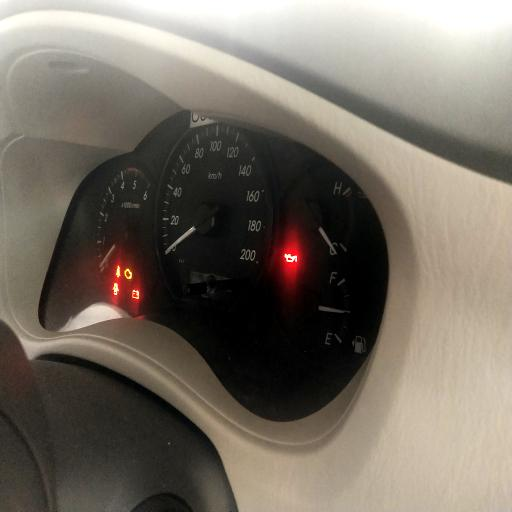belt: (115, 265, 121, 278)
check_engine: (124, 268, 132, 279)
oil: (283, 252, 297, 264)
tachometer: (94, 168, 156, 281)
vehicle_charging: (132, 288, 139, 300)
